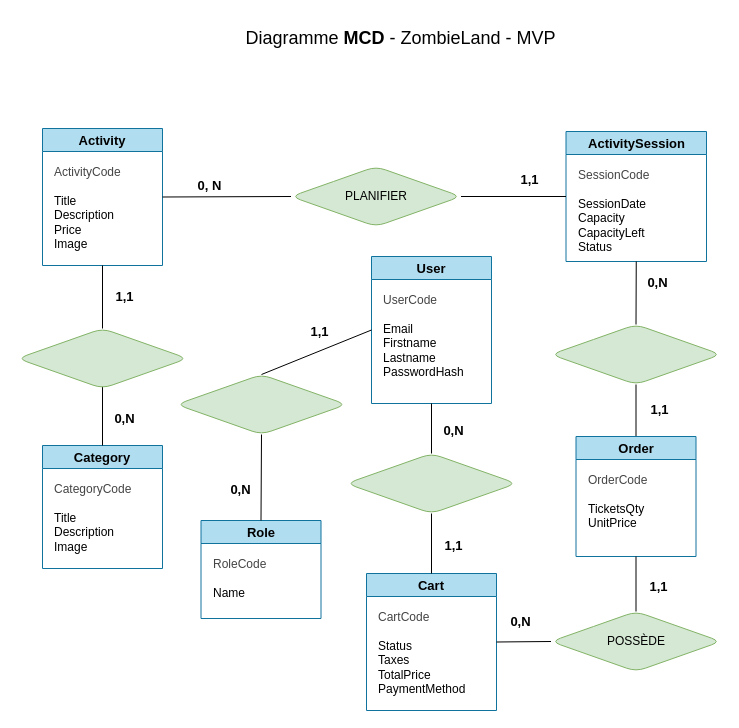
Image size: 739x728. Some labels were removed from this diagram. The centre of each missing label's shape, as x and y in pixels:
"APPARTENIR" belongs at pixel 102 358.
"CARACTÉRISE" belongs at pixel 261 404.
"CIBLER" belongs at pixel 635 354.
"PASSER" belongs at pixel 431 483.
